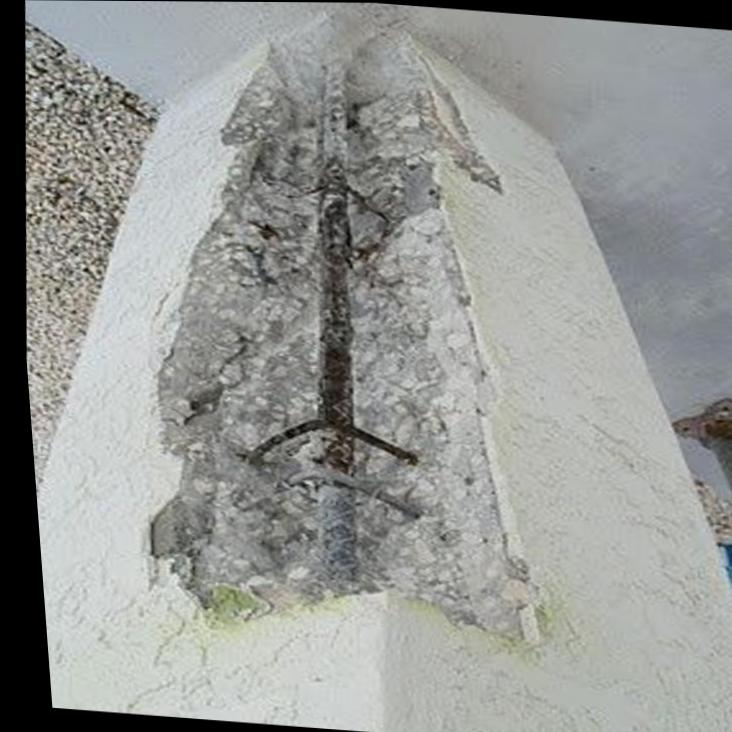damage: (139, 10, 527, 640)
